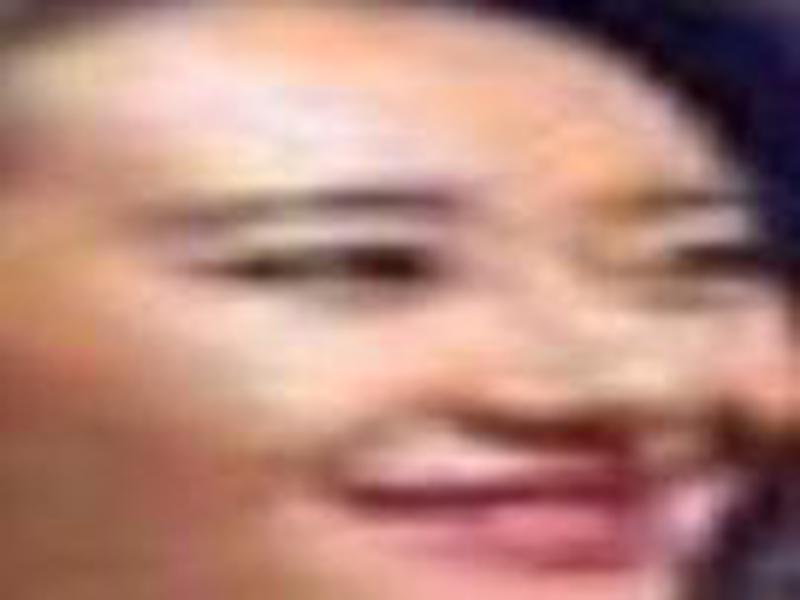without_mask: (25, 14, 797, 600)
